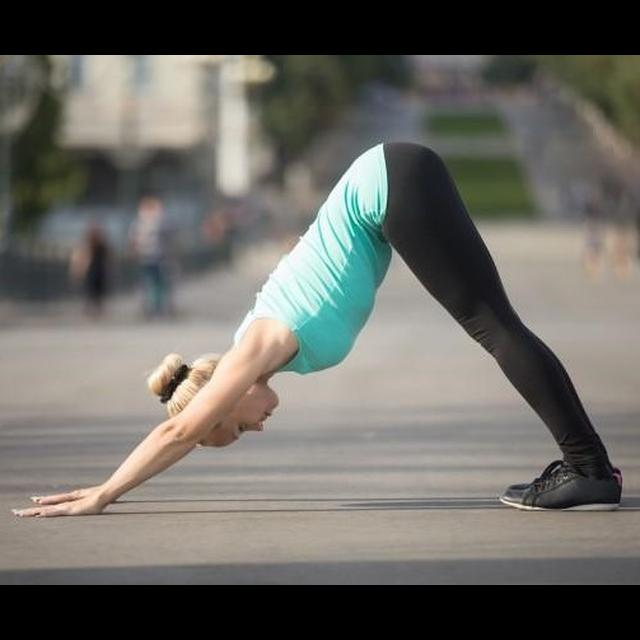Downward-Facing_Dog: (9, 137, 626, 531)
